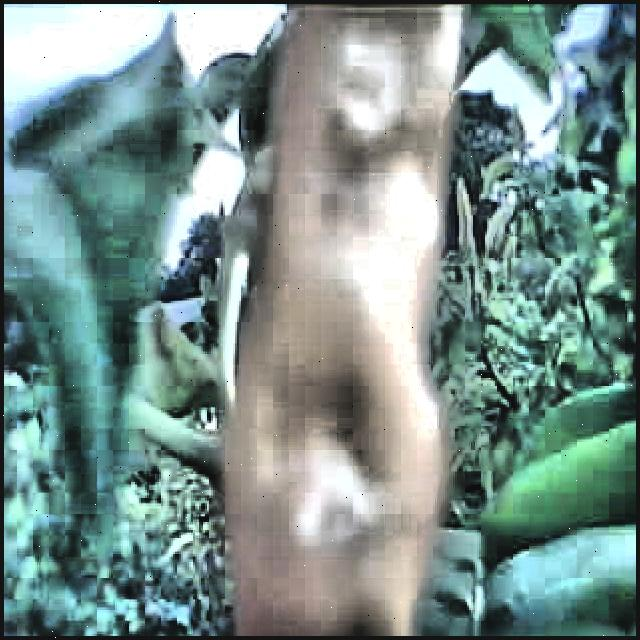Cabai: (285, 4, 437, 636)
